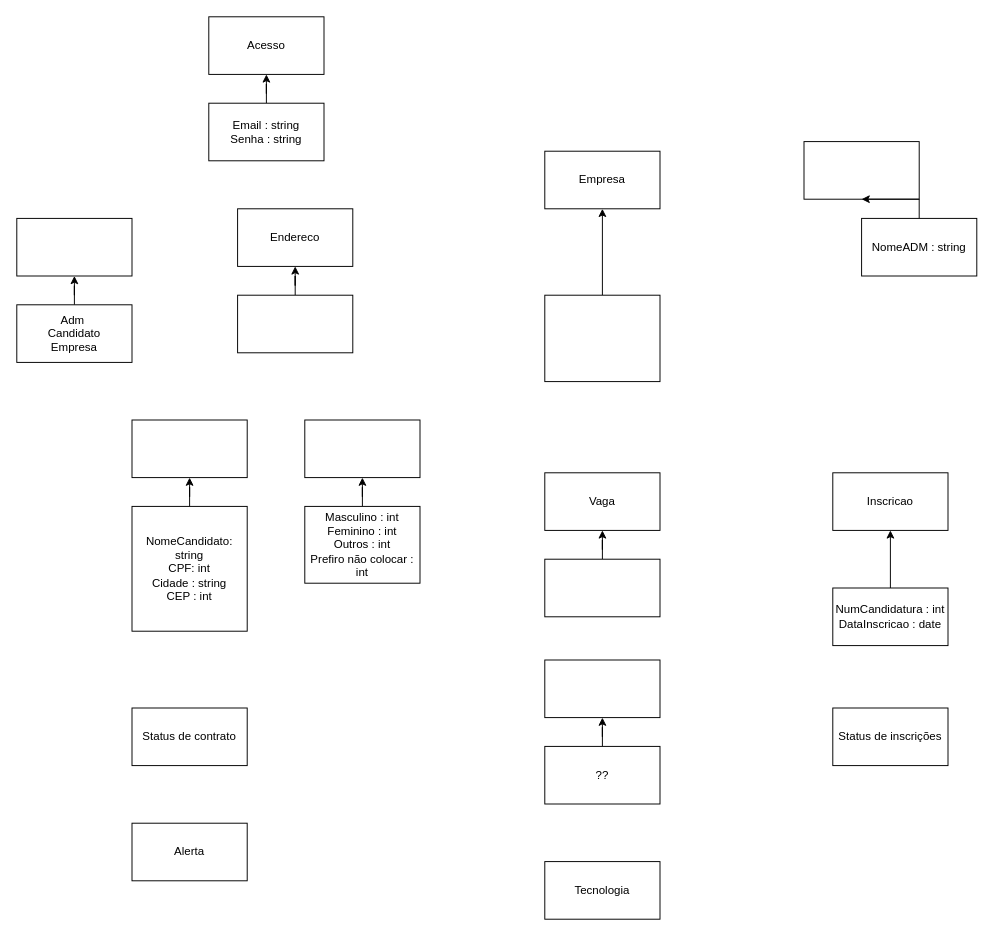
The diagram is 994 pixels wide and 936 high, and some of its shapes have lost their labels. Here are the shapes that lost their labels. From the top down, the centre of each, then its label:
the point at 861,170: ADM
the point at 74,246: TipoUsuario
the point at 295,323: Rua : string Num : int Telefone : int
the point at 602,338: RazaoSocial : string CNPJ : int CNAE : int
the point at 189,448: Candidato
the point at 362,448: Genero
the point at 602,587: NomeVaga : string DataCriacao : date DataFinal : date
the point at 602,688: TipoVaga
